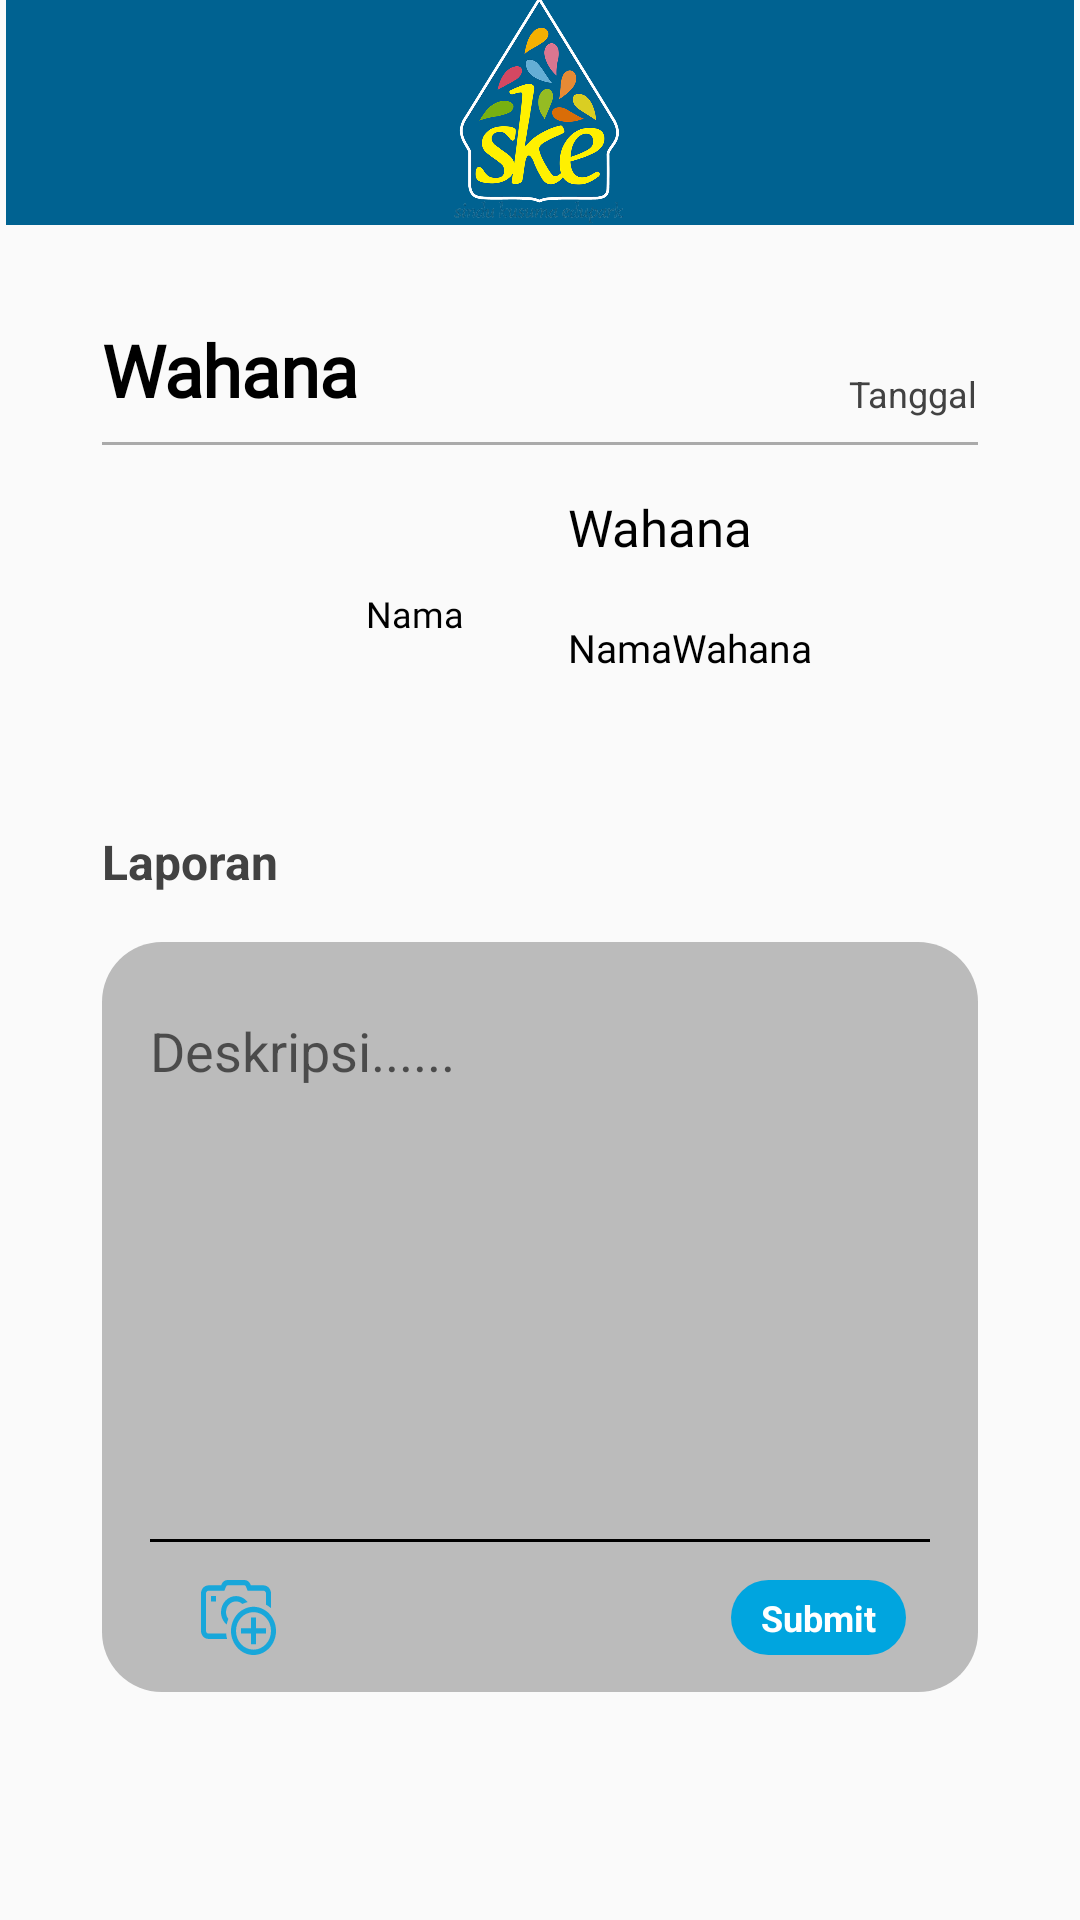

Icons on this 1080x1920 Android screen, each with its box as (x1, y1, x2, y2):
camera: (201, 1580, 276, 1655)
